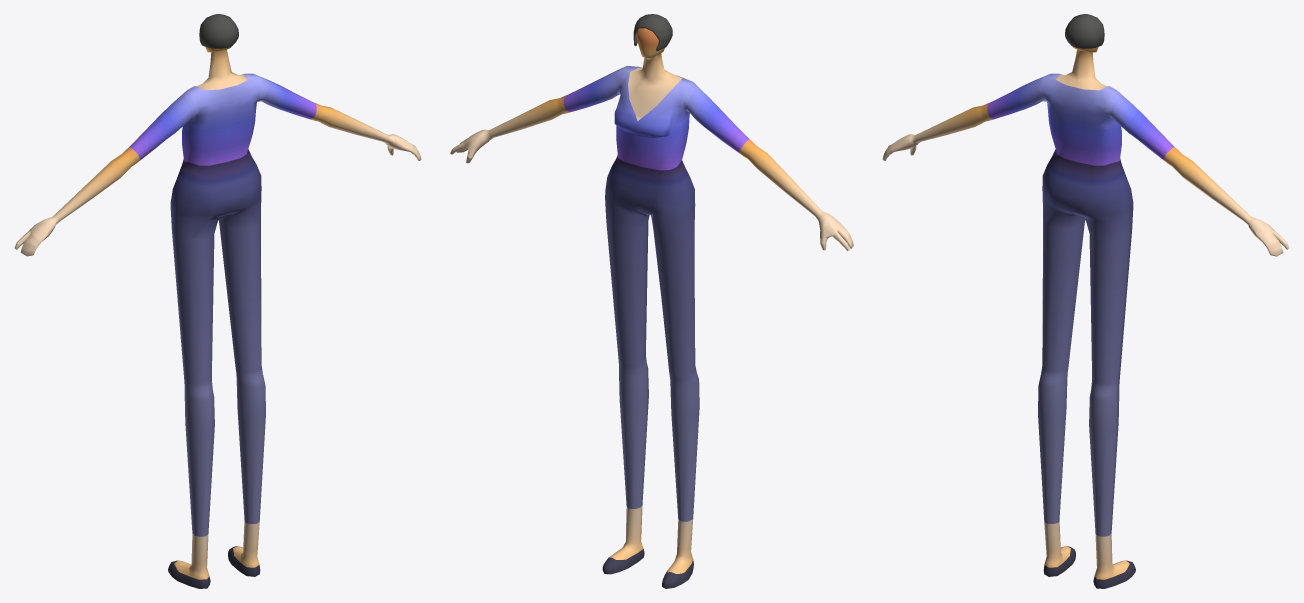
File: rig_char_54.fbx
3 views of the same model, side by side, from view 1: azimuth 30°, elevation 25°; view 2: azimuth 150°, elevation 25°; view 3: azimuth 330°, elevation 25° (orthographic).
Parts seen in each view (by area): view 1: mesh_char_108; view 2: mesh_char_108; view 3: mesh_char_108.
Part boxes in pixels (bbox=[...]): mesh_char_108: bbox=[14, 14, 421, 588]; mesh_char_108: bbox=[450, 14, 853, 588]; mesh_char_108: bbox=[882, 14, 1289, 588].
Size of the model in its own units: 10.56 by 13.97 by 1.51.
Materials: 2 (2 with a texture image).
